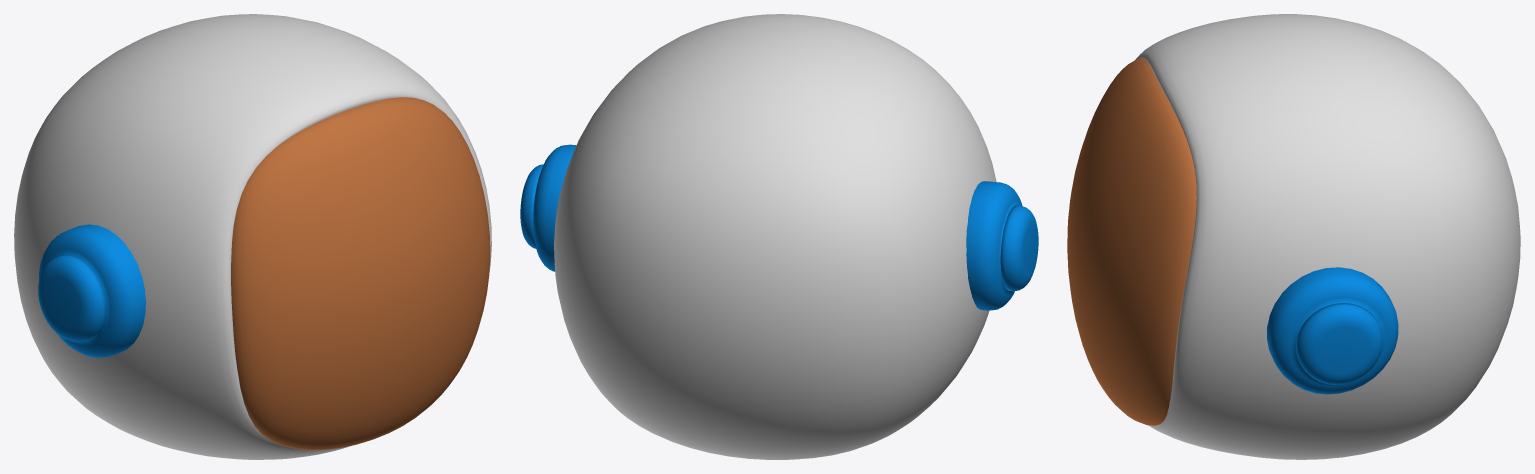
The model's file is spaceman.glb.
3 renders of one model, left to right at view 1: azimuth 30°, elevation 25°; view 2: azimuth 150°, elevation 25°; view 3: azimuth 270°, elevation 25°, orthographic. The views are drawn at different scales.
Parts seen in each view (by area): view 1: Cube.001; view 2: Cube.001; view 3: Cube.001.
Part boxes in pixels (box(x1,y1,x2,y2)): Cube.001: box(14, 14, 491, 459); Cube.001: box(520, 14, 1038, 459); Cube.001: box(1067, 14, 1520, 459).
Size of the model in its own units: 0.655 by 0.5278 by 0.5541.
